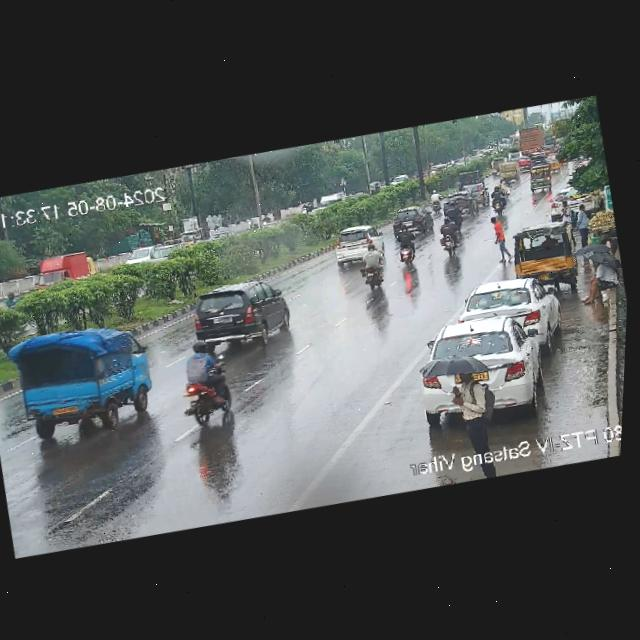car: (428, 311, 547, 402), (459, 275, 559, 353), (506, 219, 580, 290), (32, 248, 93, 293), (332, 223, 382, 254), (388, 206, 430, 241), (440, 190, 479, 221), (524, 164, 555, 194), (461, 178, 491, 209), (546, 189, 577, 217), (147, 240, 181, 264), (456, 168, 485, 191), (495, 160, 520, 185), (124, 244, 152, 266), (516, 156, 534, 171)
motorcycle: (171, 336, 243, 429), (354, 247, 390, 291), (434, 215, 471, 257), (391, 221, 421, 270), (487, 185, 509, 216), (428, 189, 444, 213), (497, 175, 512, 199)
person: (448, 356, 505, 452), (578, 255, 625, 308), (484, 212, 514, 268), (565, 199, 601, 245), (560, 197, 581, 244)
truck: (2, 312, 163, 444), (176, 271, 301, 360)
